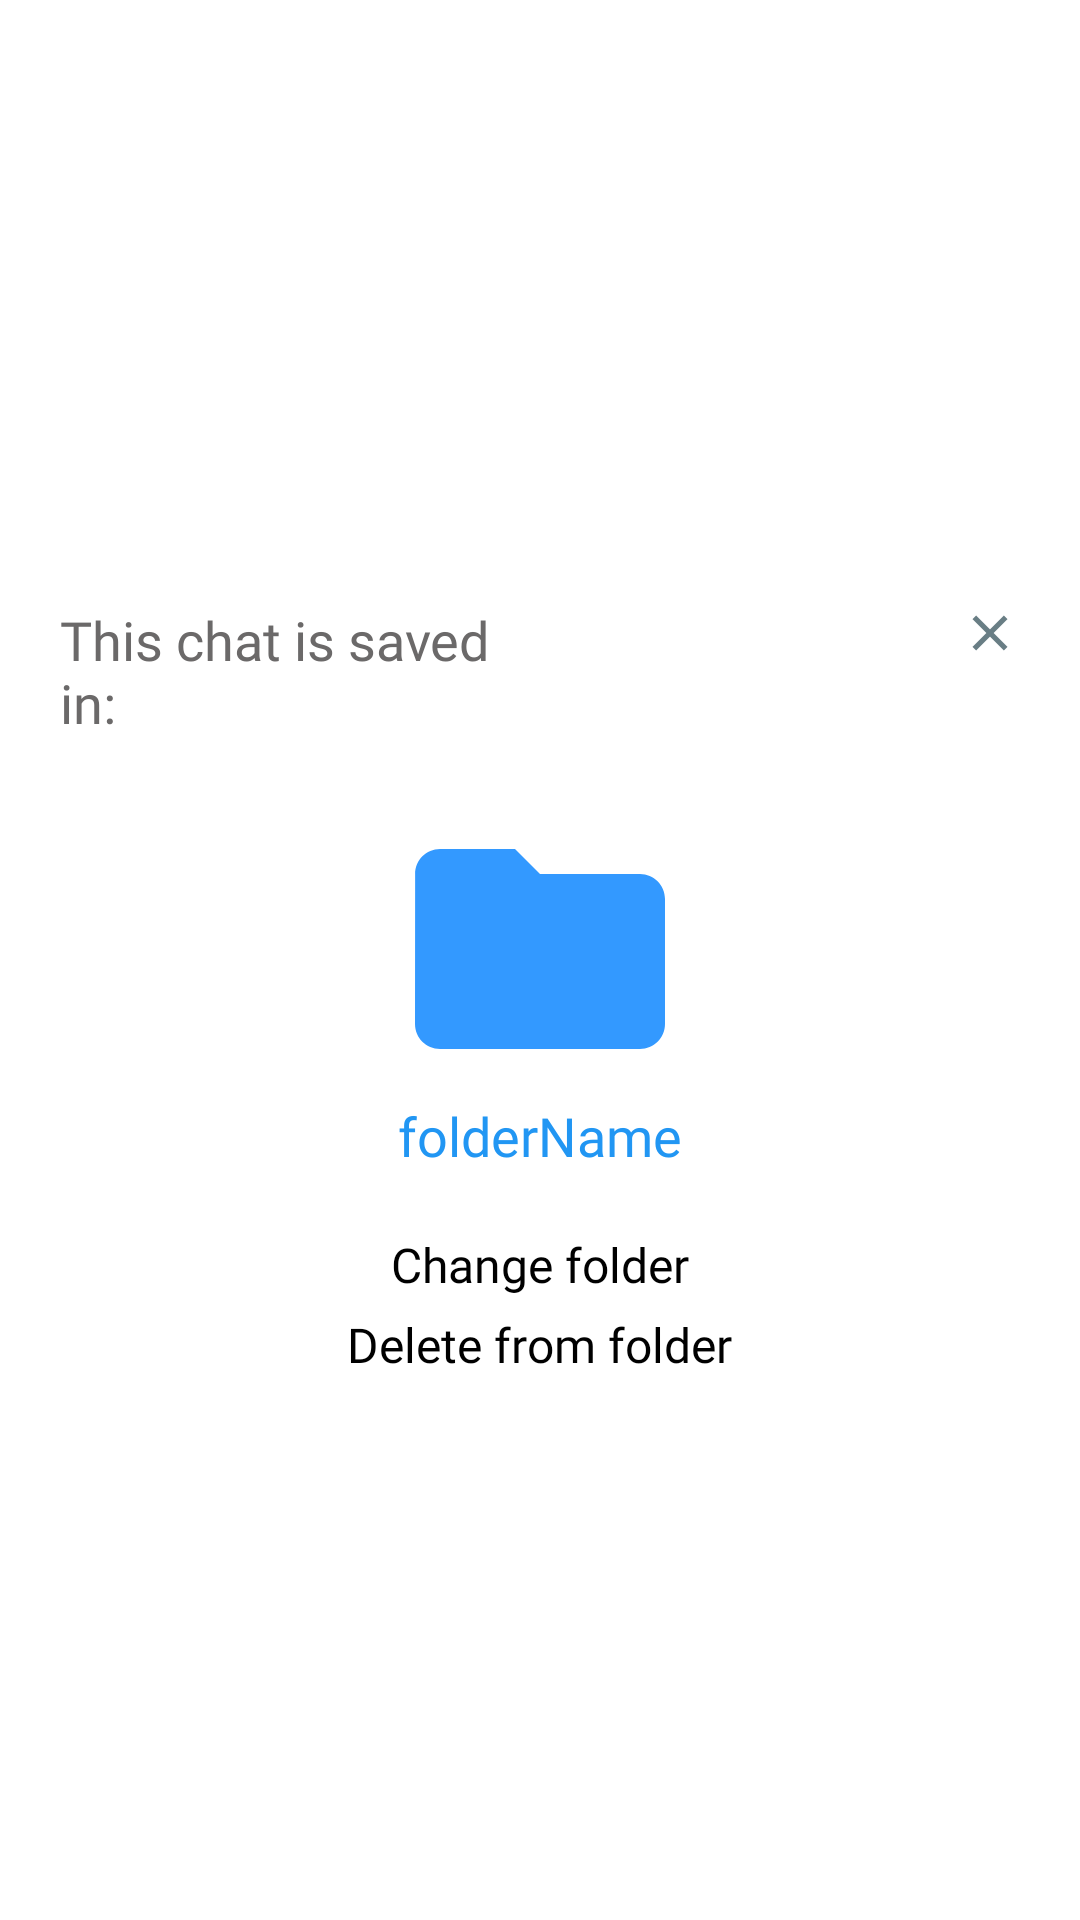

Where to tap for icons on this 1080w x 1920h app screen, as (x,y):
close: (990,633)
